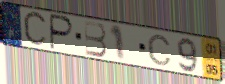1: (108, 24, 127, 63)
9: (176, 36, 200, 74)
B: (83, 19, 109, 59)
C: (22, 10, 49, 49), (146, 34, 174, 67)
P: (49, 13, 76, 52)
